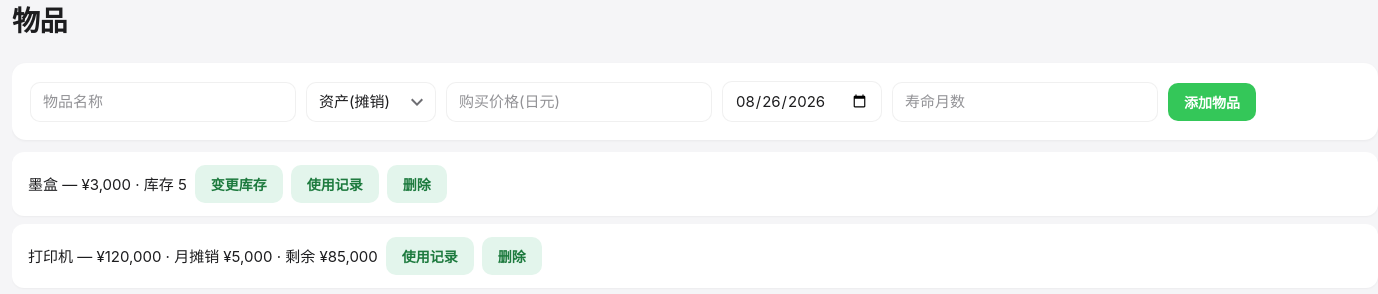
Scenario: 物品管理组件 › 消耗品变更库存并刷新显示
expect the list item "墨盒 — ¥3,000 · 库存 5 变更库存 使用记录 删除" is shown: met, box x1=12 y1=152 x2=1377 y2=216
Click the button "变更库存". click: (239, 184)
box: x1=195 y1=165 x2=283 y2=203
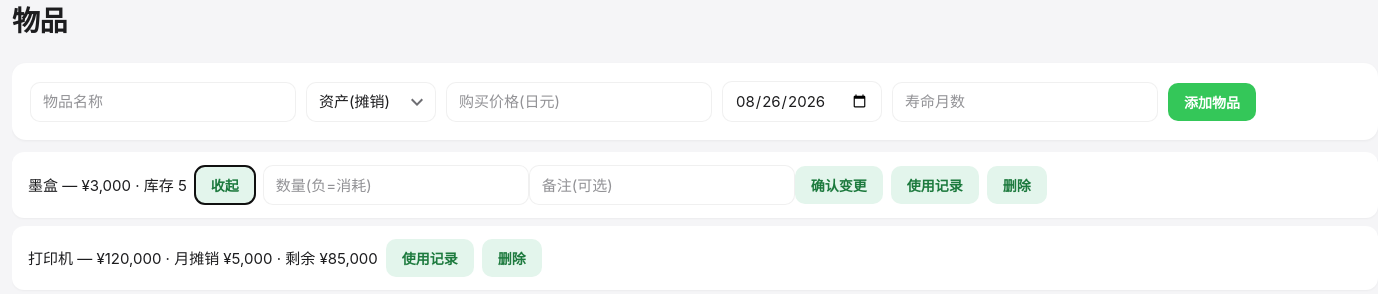
Type "-2" into the number field named "变更数量". click: (396, 185)
box: x1=263 y1=165 x2=529 y2=205
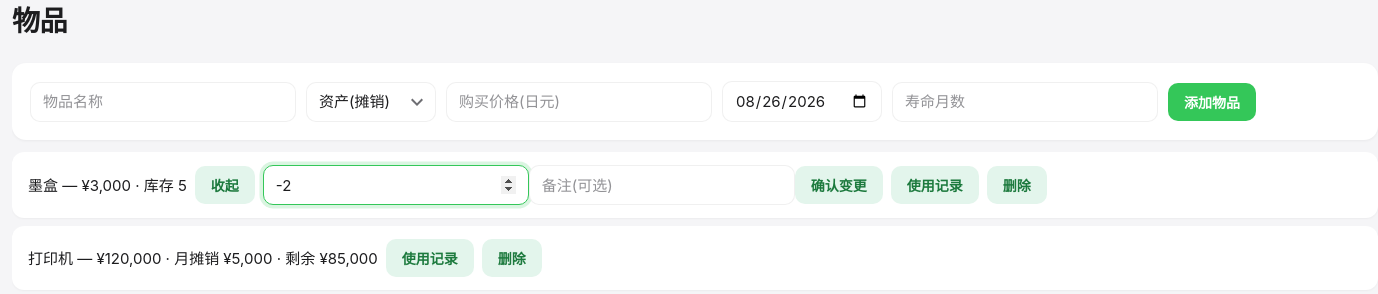
Click the button "确认变更". click: (839, 185)
box: x1=795 y1=166 x2=883 y2=204
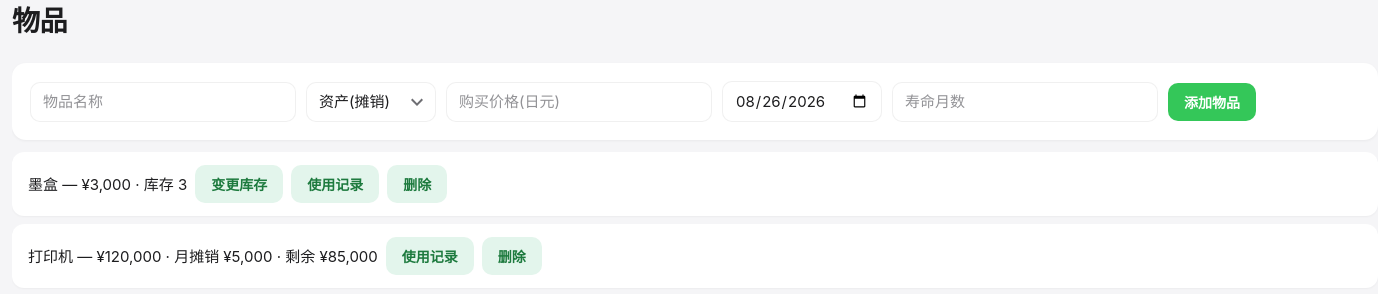
expect the list item "墨盒 — ¥3,000 · 库存 3 变更库存 使用记录 删除" is shown: met, box x1=12 y1=152 x2=1377 y2=216
